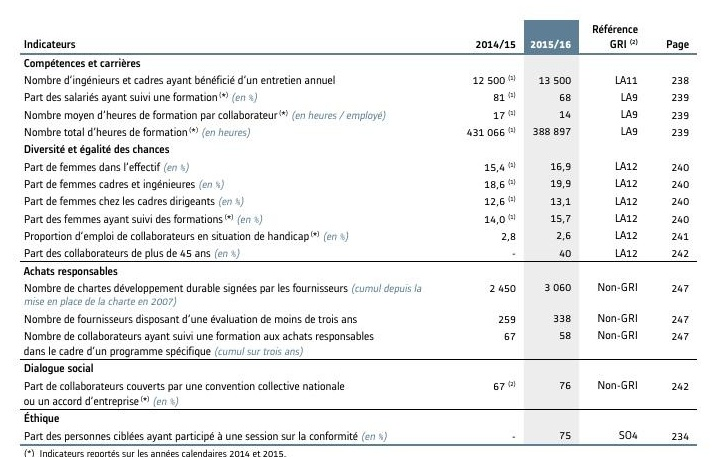table: (0, 0, 716, 457)
